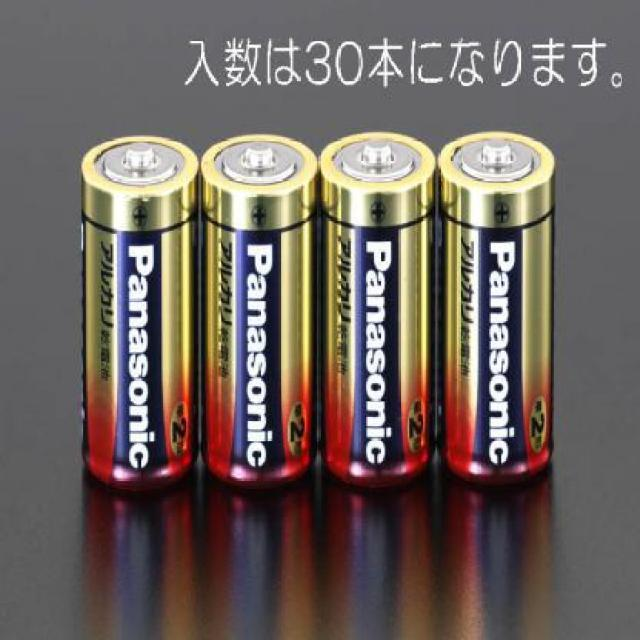hazardous waste: (436, 129, 564, 488), (75, 132, 198, 498), (314, 128, 438, 490), (200, 132, 318, 491)
